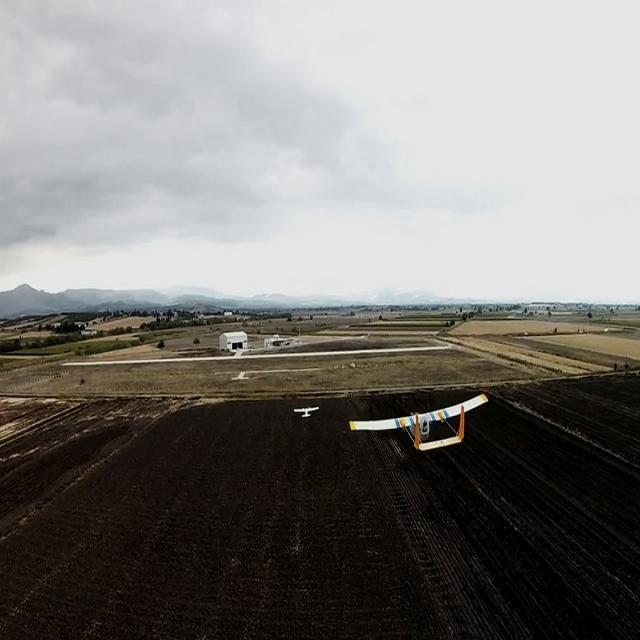iha: (346, 414, 498, 436), (292, 403, 319, 419)
